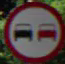No overtake: (4, 3, 59, 55)
